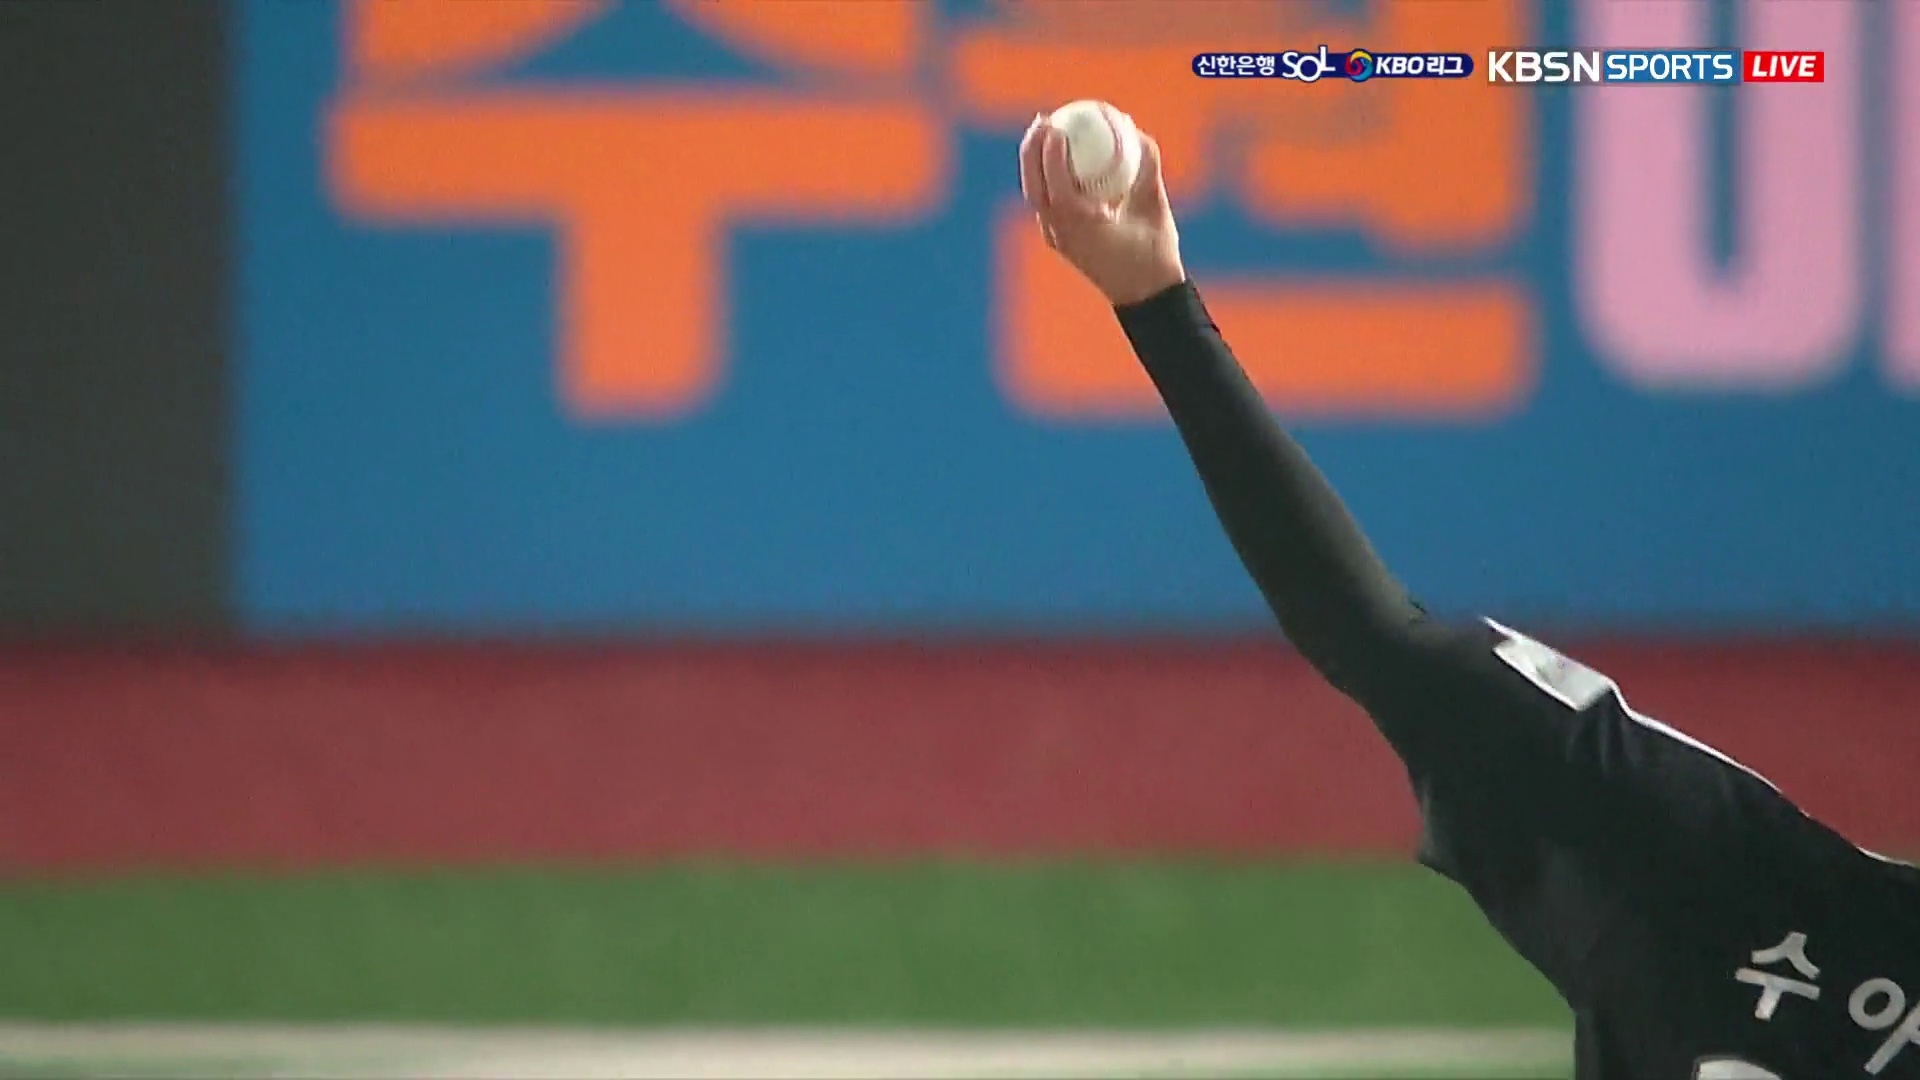zoomin_hand: (1011, 94, 1432, 680)
